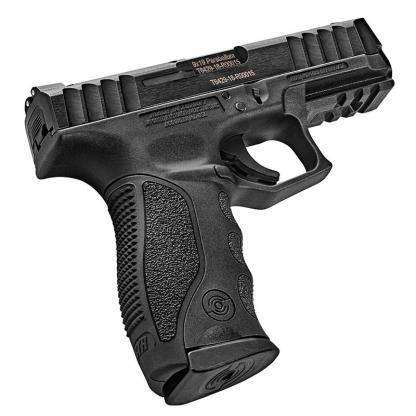Pistol: (19, 13, 413, 415)
